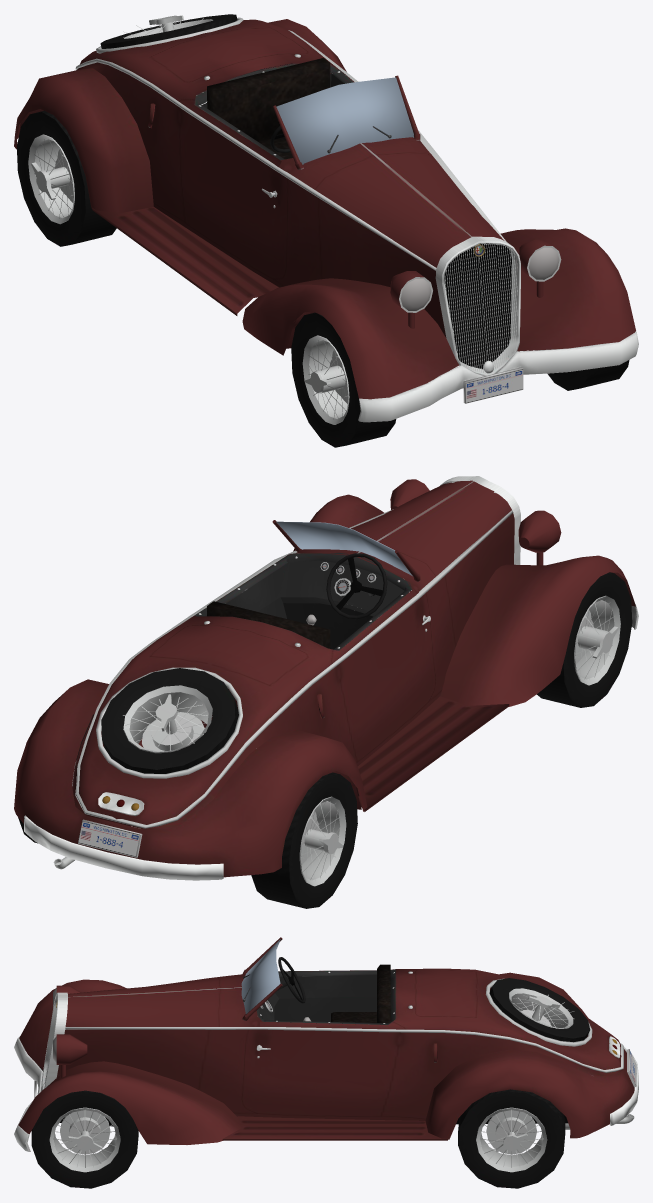
File: AlfaRomeo.fbx
3 views of the same model, one above another, from view 1: azimuth 30°, elevation 25°; view 2: azimuth 150°, elevation 25°; view 3: azimuth 270°, elevation 25° (orthographic). The views are drawn at different scales.
Parts seen in each view (by area): view 1: bodymain_low.017, bodymain_low.014, bodymain_low.002, bodymain_low.003, bodymain_low.005, bodymain_low.001, sete_low.003, stotfangerforan_low.002, wheel.004, wheel, grillinterior_low, lys_low (+9 smaller); view 2: bodymain_low.017, bodymain_low.014, bodymain_low.002, bodymain_low.009, wheel.009, bodymain_low.001, wheel, wheel.004, bodymain_low, stotfangerbak_low.002, wheel.010, bodymain_low.005 (+14 smaller); view 3: bodymain_low.017, bodymain_low.014, bodymain_low.002, bodymain_low.009, wheel, wheel.004, bodymain_low.001, wheel.009, bodymain_low, wheel.005, wheel.001, bodymain_low.005 (+14 smaller).
Part boxes in pixels (x1,y1,x2,y2): bodymain_low.017: [76, 62, 635, 399]; bodymain_low.014: [14, 19, 346, 212]; bodymain_low.002: [80, 19, 353, 167]; bodymain_low.003: [435, 236, 520, 376]; bodymain_low.005: [276, 77, 413, 164]; bodymain_low.001: [92, 207, 278, 315]; sete_low.003: [207, 58, 330, 159]; stotfangerforan_low.002: [358, 331, 638, 422]; wheel.004: [291, 312, 629, 447]; wheel: [17, 63, 292, 246]; grillinterior_low: [445, 244, 517, 373]; lys_low: [390, 239, 561, 328]; bodymain_low.017: [72, 480, 626, 829]; bodymain_low.014: [14, 679, 367, 877]; bodymain_low.002: [79, 589, 416, 824]; bodymain_low.009: [194, 552, 412, 650]; wheel.009: [101, 668, 238, 773]; bodymain_low.001: [357, 696, 509, 811]; wheel: [18, 714, 357, 908]; wheel.004: [537, 572, 632, 707]; bodymain_low: [75, 509, 513, 828]; stotfangerbak_low.002: [24, 815, 223, 880]; wheel.010: [123, 685, 212, 753]; bodymain_low.005: [276, 521, 412, 575]; bodymain_low.017: [18, 974, 622, 1144]; bodymain_low.014: [425, 972, 634, 1139]; bodymain_low.002: [260, 968, 621, 1069]; bodymain_low.009: [256, 969, 395, 1024]; wheel: [458, 1089, 565, 1188]; wheel.004: [31, 1062, 138, 1188]; bodymain_low.001: [222, 1116, 447, 1140]; wheel.009: [489, 978, 590, 1042]; bodymain_low: [65, 987, 623, 1072]; wheel.005: [49, 1107, 120, 1172]; wheel.001: [476, 1107, 547, 1172]; bodymain_low.005: [241, 939, 280, 1013].
Size of the model in its own units: 1.74 by 1.34 by 4.15.
